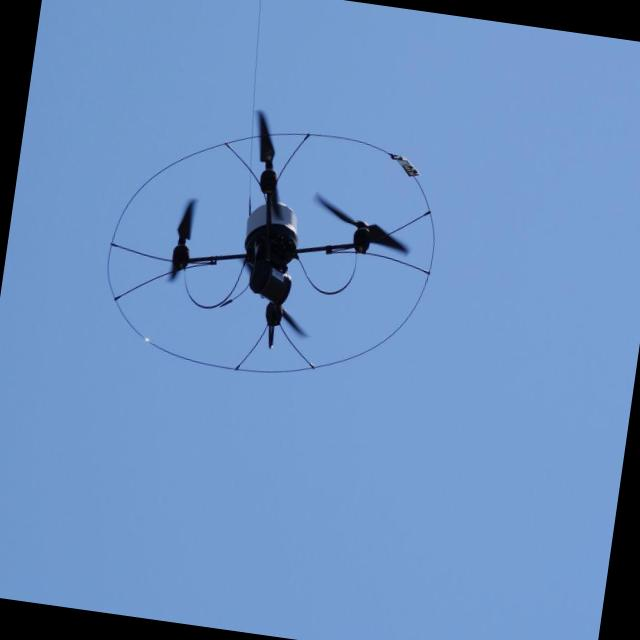drone: (91, 92, 452, 399)
